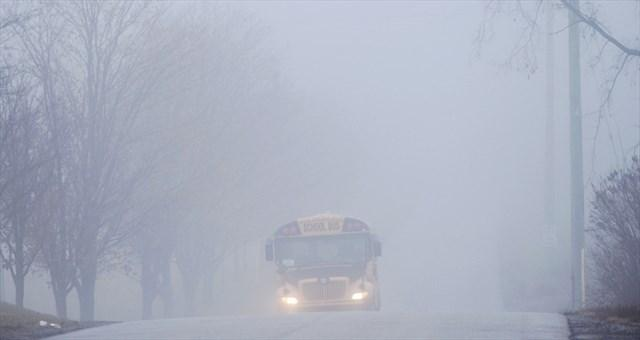car: (265, 214, 383, 313)
